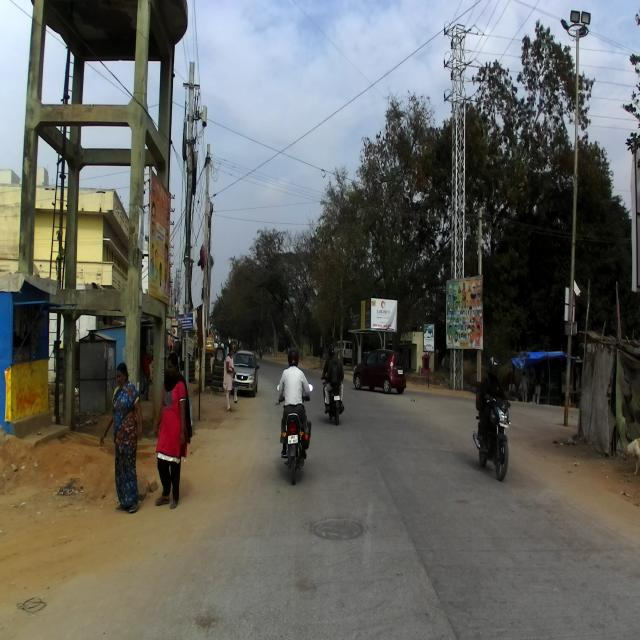motorcycle ahead at: (472, 382, 516, 485), (273, 391, 313, 478)
person ahead at: (100, 356, 148, 513), (156, 346, 192, 506)
